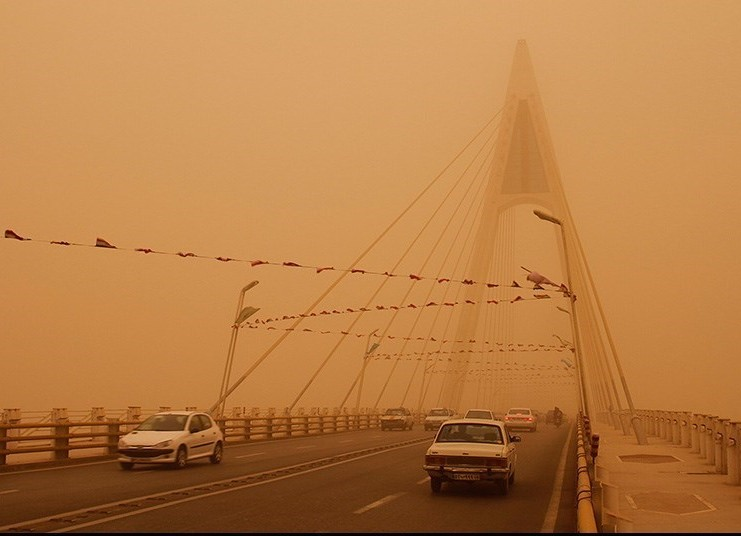car: (423, 419, 517, 495), (117, 410, 224, 470), (378, 406, 416, 430), (503, 407, 536, 431), (422, 407, 457, 429), (464, 406, 493, 422), (545, 407, 561, 423)
